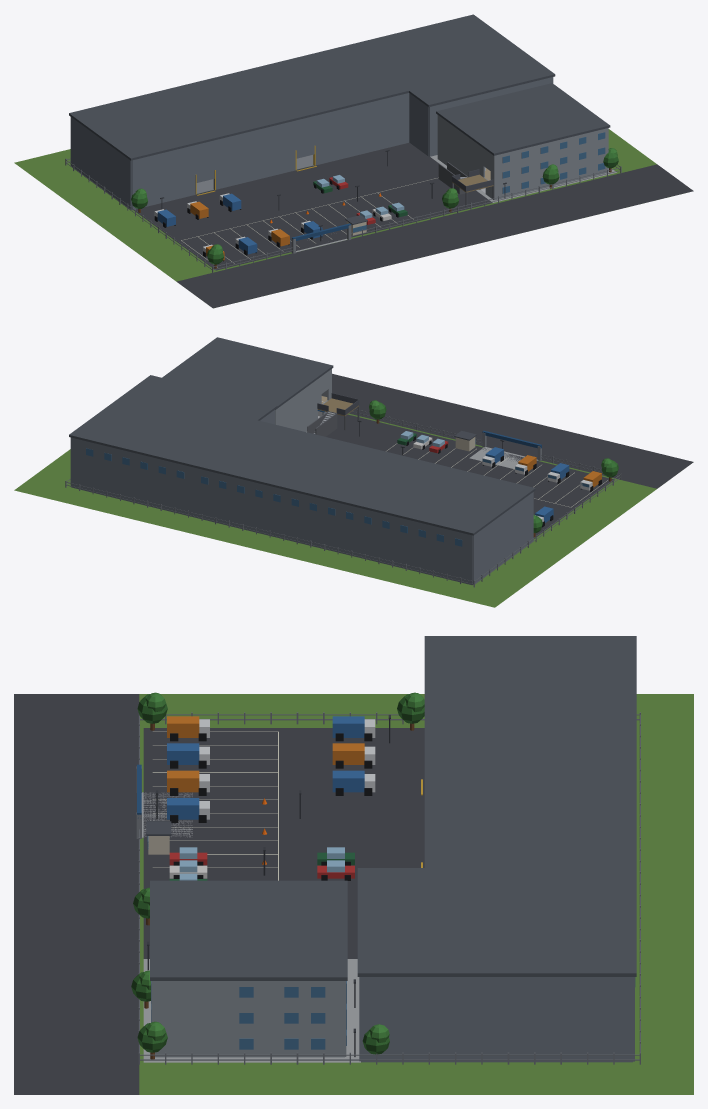
Rendered from factory_map.glb.
The picture shows the model from 3 angles, top to bottom: view 1: azimuth 30°, elevation 25°; view 2: azimuth 150°, elevation 25°; view 3: azimuth 270°, elevation 25°; orthographic projection. The views are drawn at different scales.
Visible parts, largest first — view 1: Site, WH1Roof, WH1, WH2Roof, Roof, F2, F3, WH2, F1; view 2: Site, WH1Roof, WH1, WH2Roof, Roof, WH2, F3, F2; view 3: Site, WH1Roof, WH2Roof, WH2, Roof, F2, F1, F3.
Part boxes in pixels (x1,y1,x2,y2): Site: (14, 129, 693, 308); WH1Roof: (69, 44, 410, 160); WH1: (70, 93, 409, 210); WH2Roof: (348, 14, 555, 106); Roof: (436, 83, 610, 155); F2: (437, 129, 608, 184); F3: (437, 115, 608, 169); WH2: (409, 77, 553, 156); F1: (437, 144, 608, 200); Site: (14, 373, 693, 607); WH1Roof: (191, 419, 535, 535); WH1: (194, 467, 533, 585); WH2Roof: (69, 375, 277, 466); Roof: (162, 337, 333, 409); WH2: (70, 410, 275, 517); F3: (275, 369, 331, 423); F2: (275, 383, 331, 428); Site: (14, 692, 693, 1094); WH1Roof: (424, 636, 636, 870); WH2Roof: (357, 868, 636, 976); WH2: (359, 977, 635, 1062); Roof: (150, 880, 347, 980); F2: (151, 994, 346, 1031); F1: (151, 1020, 346, 1057); F3: (151, 981, 346, 1005).
Size of the model in its own units: 106 by 11.08 by 76.
